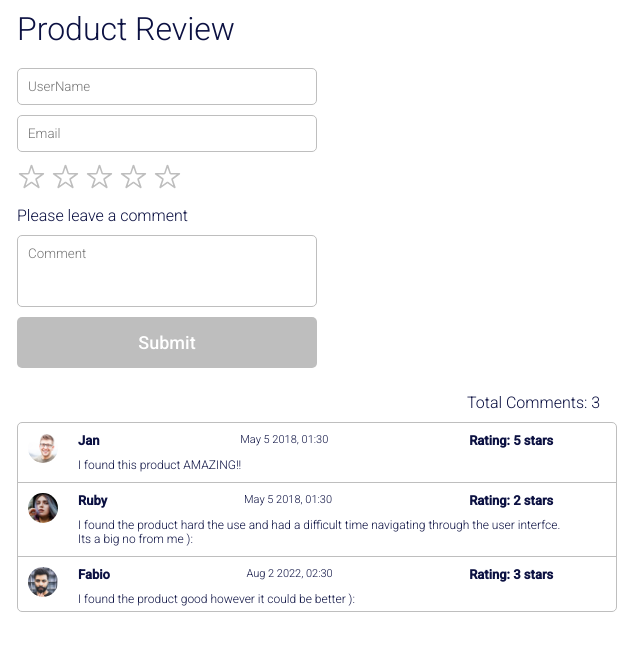
Test: Submitting form with no input › submitting name with no input should show error
Step 1. Clear the field with placeholder "UserName" → (167, 86), box [17,68,317,105]
Expected: the text "missing username" is not shown
Step 2. Submit the form from the button "Submit", box [17,317,317,368]
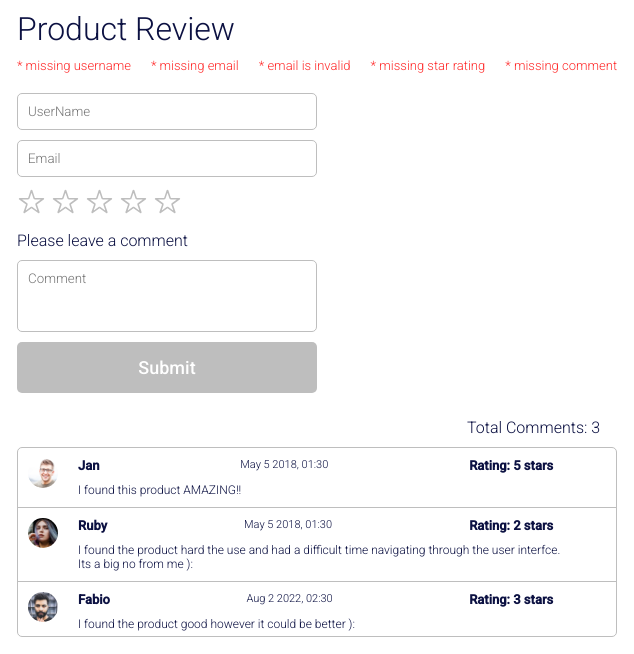
Expected: the text "* missing username" is shown, [17,58,131,73]
